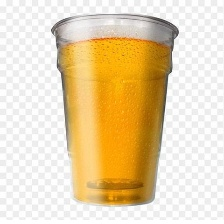glass: (48, 7, 184, 214)
